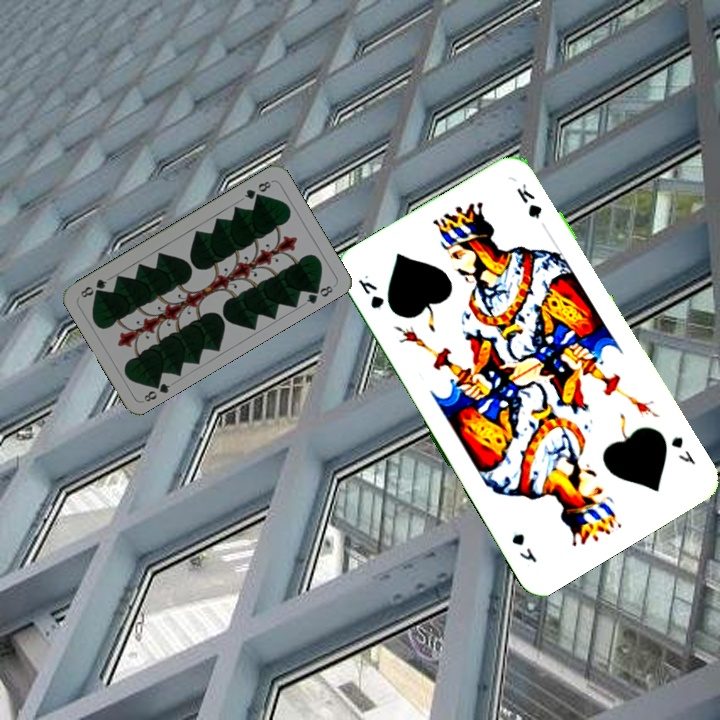G8: (139, 376, 173, 405), (240, 177, 274, 202)
GK: (353, 270, 387, 312), (666, 432, 699, 468)
